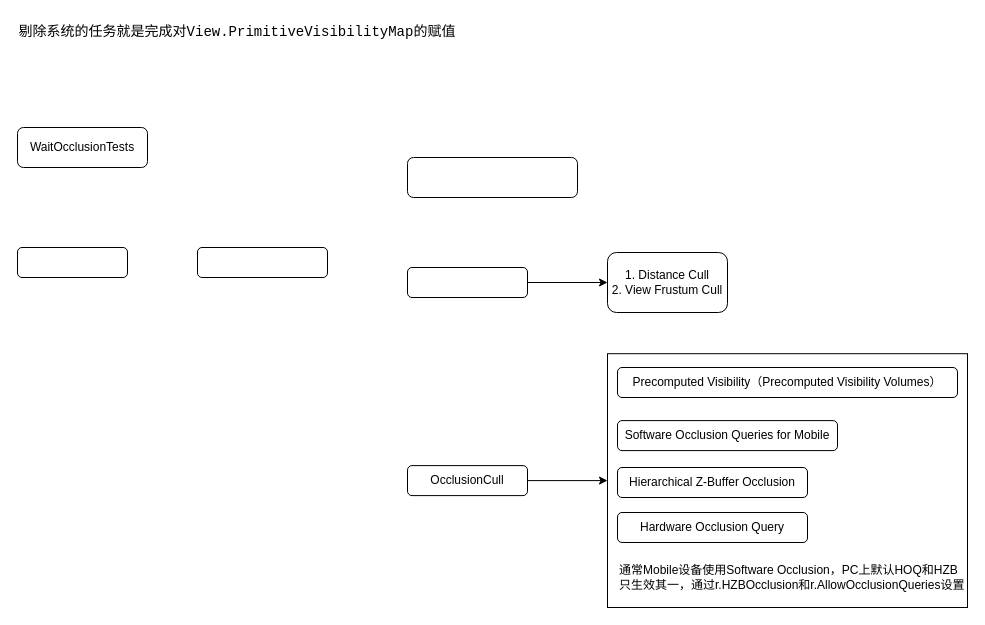
The diagram is 985 pixels wide and 625 high, and some of its shapes have lost their labels. The shapes that lost their labels are listed below. From the top down, each one's centre as x and y in pixels, then its label:
At (492,177): "View.PrimitiveVisibilityMap.Init".
At (72,262): "InitViews".
At (262,262): "ComputeViewVisibility".
At (467,282): "FrustumCull".
